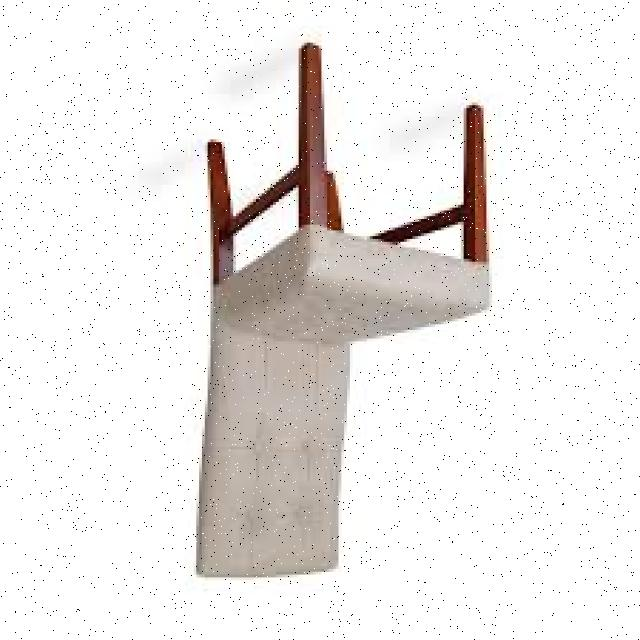bottle: (192, 42, 492, 586)
